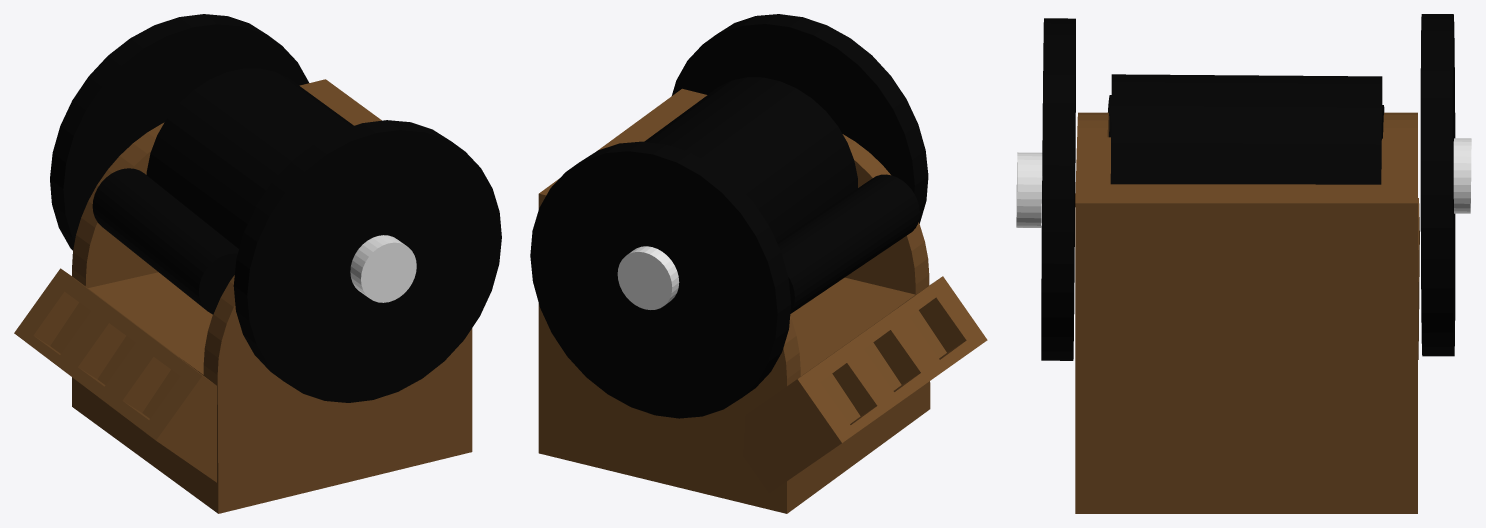
File: wooden ore crusher.glb
3 views of the same model, side by side, from view 1: azimuth 30°, elevation 25°; view 2: azimuth 150°, elevation 25°; view 3: azimuth 270°, elevation 25° (orthographic). The views are drawn at different scales.
Parts seen in each view (by area): view 1: 円柱.004, 立方体, 円柱.002, 円柱, 立方体.001, 円柱.001, 円柱.006; view 2: 円柱.002, 立方体, 立方体.001, 円柱, 円柱.004, 円柱.001, 円柱.005; view 3: 立方体, 円柱, 円柱.002, 円柱.004, 円柱.006, 円柱.005.
Boxes of the visible parts, bbox=[...] form: 円柱.004: bbox=[233, 120, 501, 402]; 立方体: bbox=[72, 79, 472, 513]; 円柱.002: bbox=[50, 14, 308, 250]; 円柱: bbox=[146, 68, 353, 248]; 立方体.001: bbox=[14, 268, 216, 482]; 円柱.001: bbox=[92, 168, 238, 314]; 円柱.006: bbox=[350, 235, 416, 302]; 円柱.002: bbox=[530, 141, 791, 418]; 立方体: bbox=[538, 88, 930, 513]; 立方体.001: bbox=[743, 276, 987, 493]; 円柱: bbox=[644, 77, 857, 242]; 円柱.004: bbox=[672, 14, 928, 223]; 円柱.001: bbox=[777, 174, 919, 313]; 円柱.005: bbox=[617, 246, 679, 309]; 立方体: bbox=[1075, 112, 1417, 513]; 円柱: bbox=[1110, 74, 1382, 184]; 円柱.002: bbox=[1420, 14, 1455, 356]; 円柱.004: bbox=[1041, 18, 1075, 360]; 円柱.006: bbox=[1016, 152, 1042, 227]; 円柱.005: bbox=[1453, 138, 1471, 213].
Bounding box in the file's own units: 2.6 × 2.68 × 2.65.
